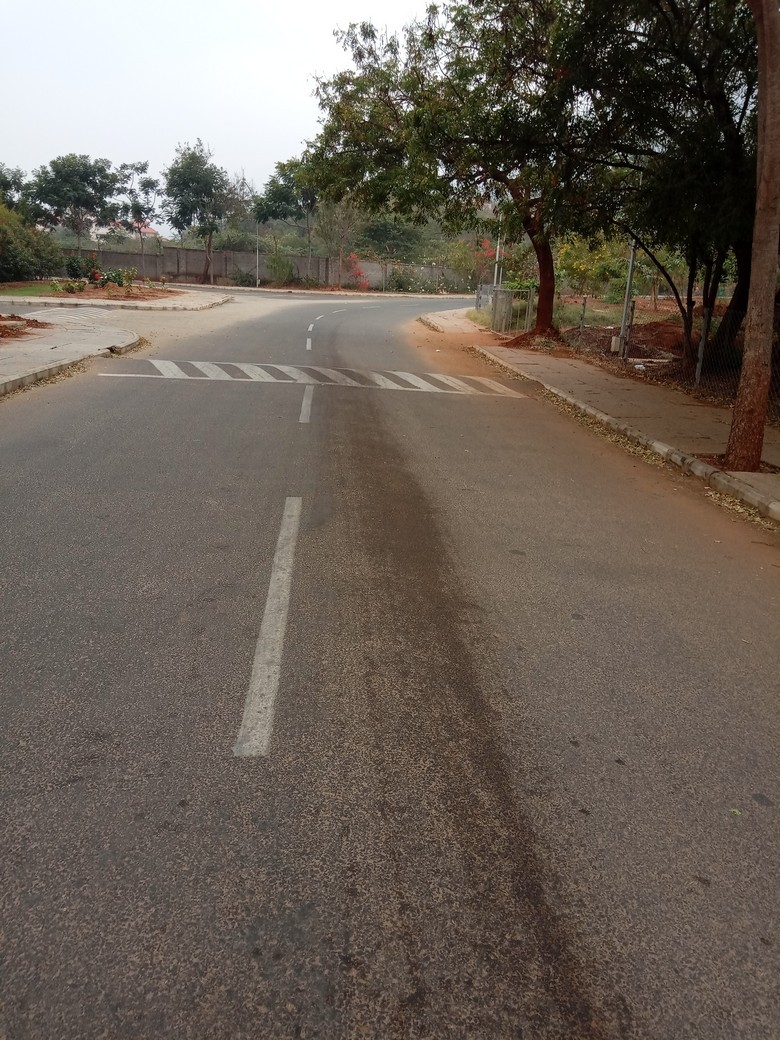bump: (84, 354, 521, 397)
